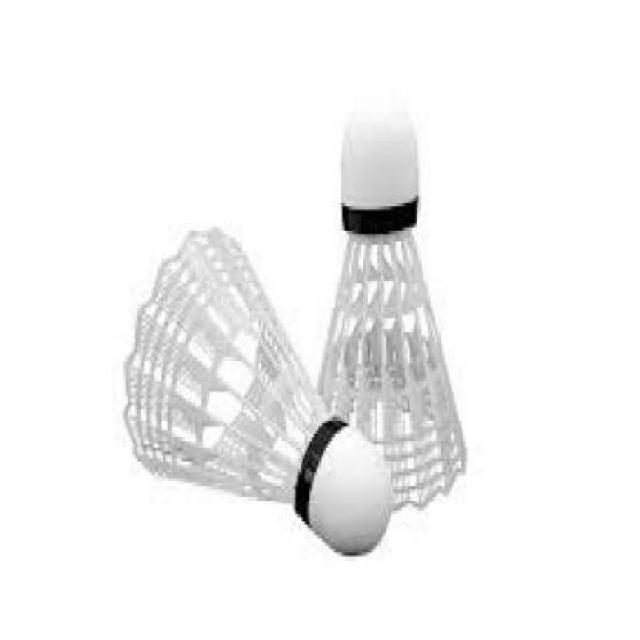Shuttlecock: (122, 225, 396, 560), (309, 105, 468, 517)
